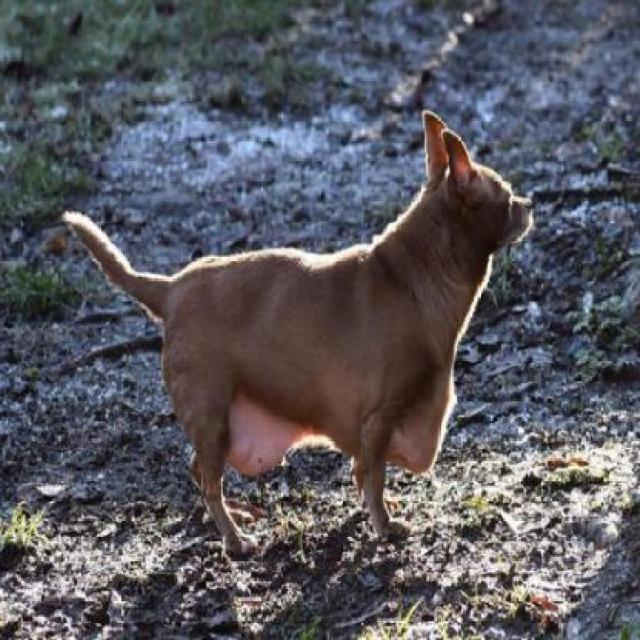Dog: (57, 111, 545, 569)
